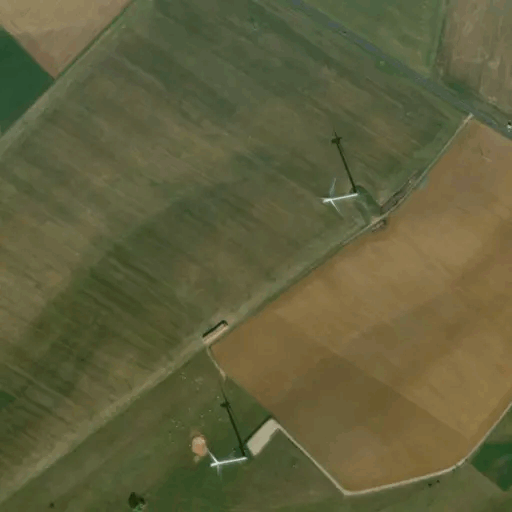wt: (309, 117, 375, 227), (193, 378, 258, 485)
